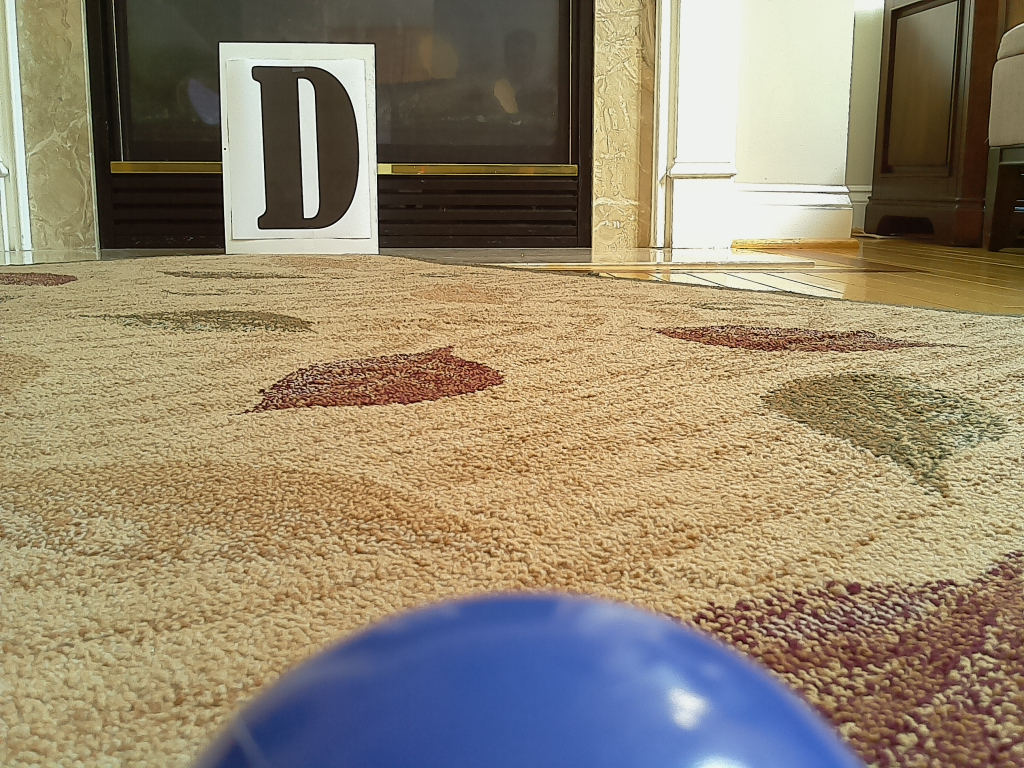letter: (258, 64, 359, 230)
